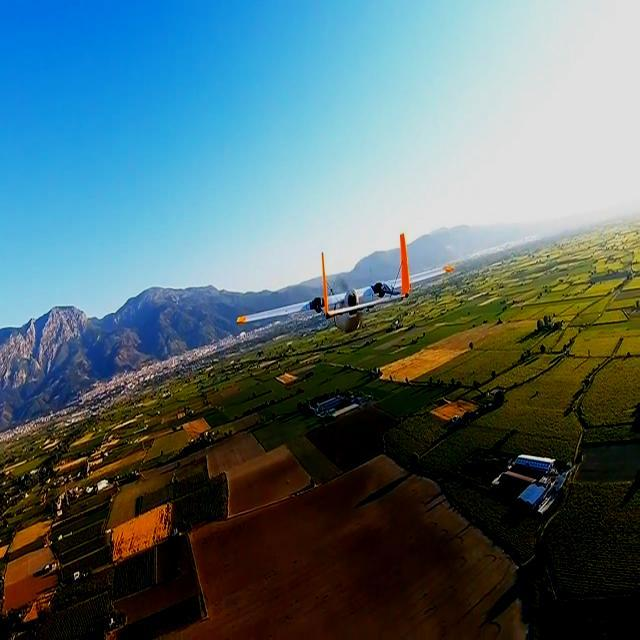iha: (232, 256, 457, 295)
